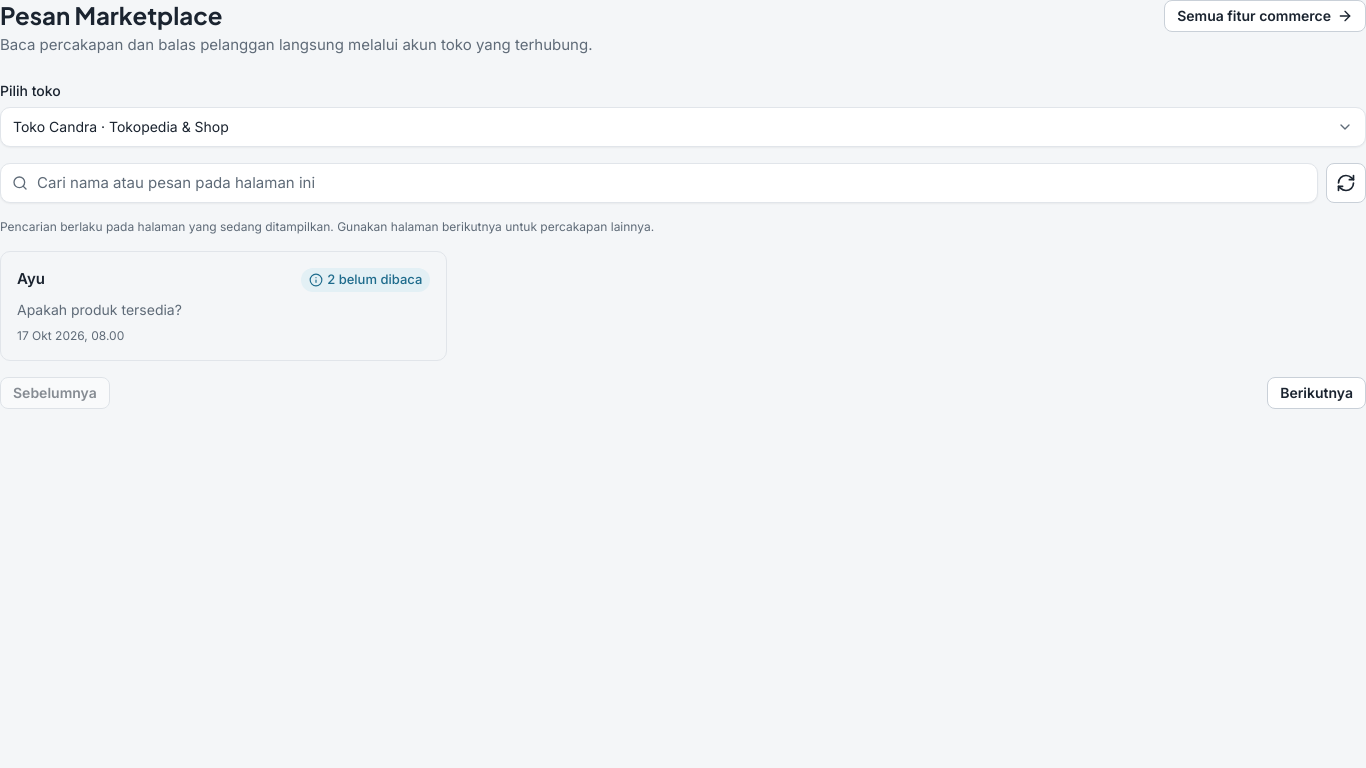
Test: marketplace inbox › searches the loaded page, pages using opaque cursors, and never marks messages read implicitly
expect the button with aria-label "Buka percakapan Ayu" is shown: met, box [0,250,447,360]
Type "tidak-ada" into the search field at x=659, y=182, box [0,162,1318,202]
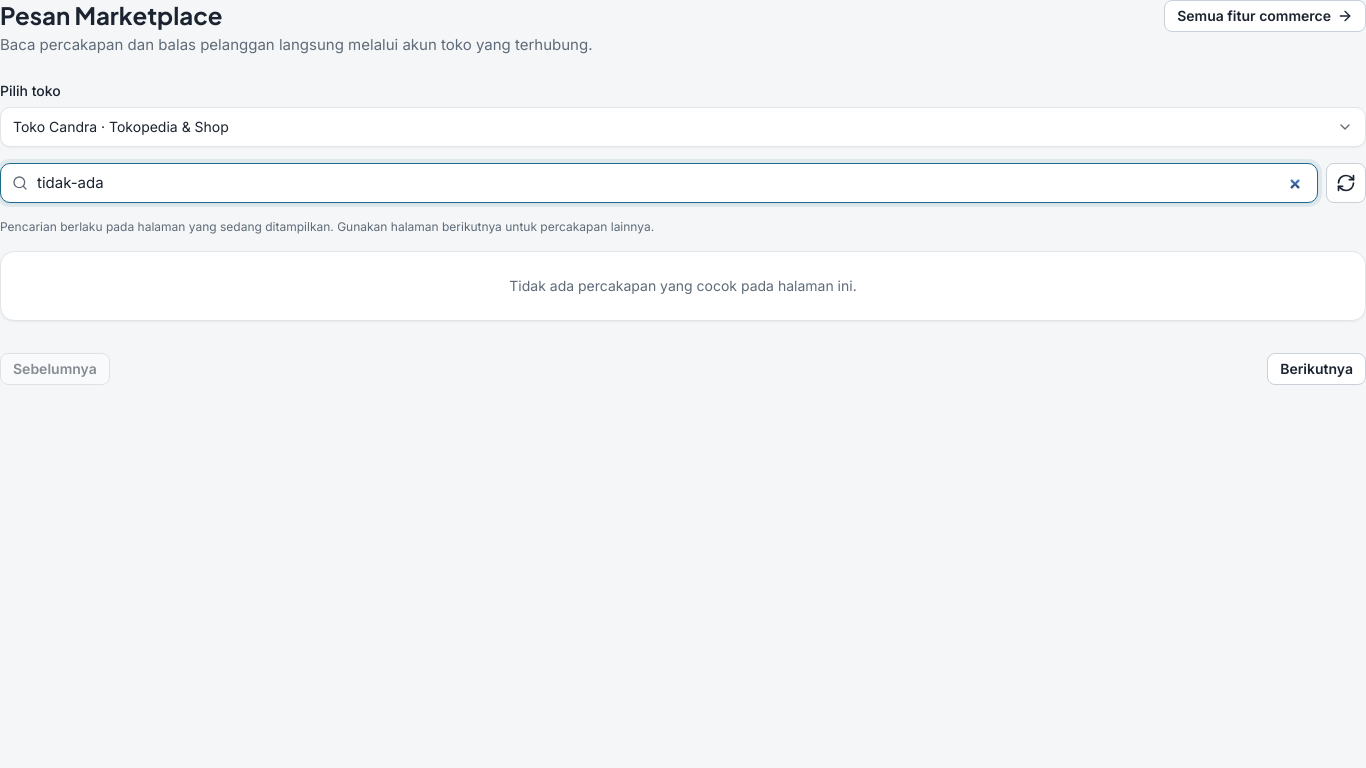
expect the text "Tidak ada percakapan yang cocok pada halaman ini." is shown: met, box [0,250,1365,320]
Clear the search field at x=659, y=182, box [0,162,1318,202]
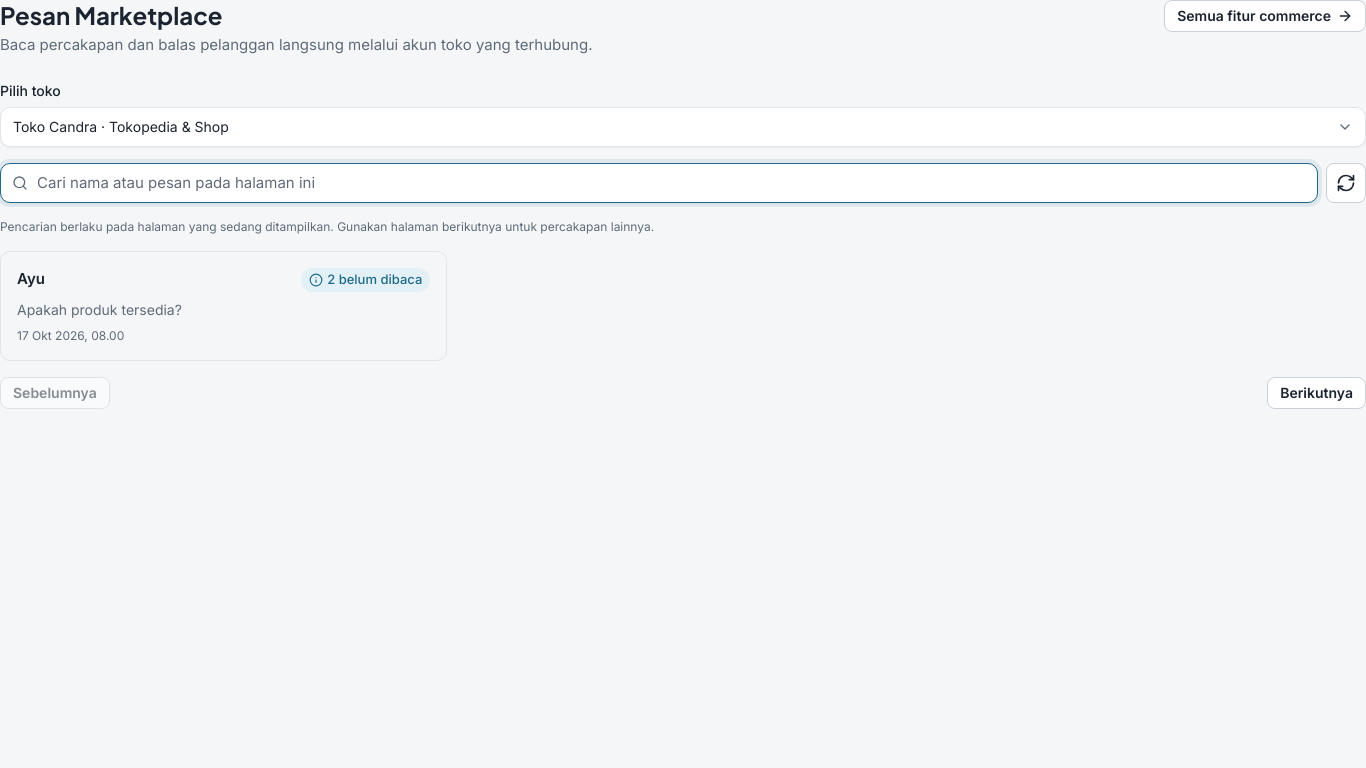
Click the button "Berikutnya" at x=1317, y=392, box [1267,376,1365,408]
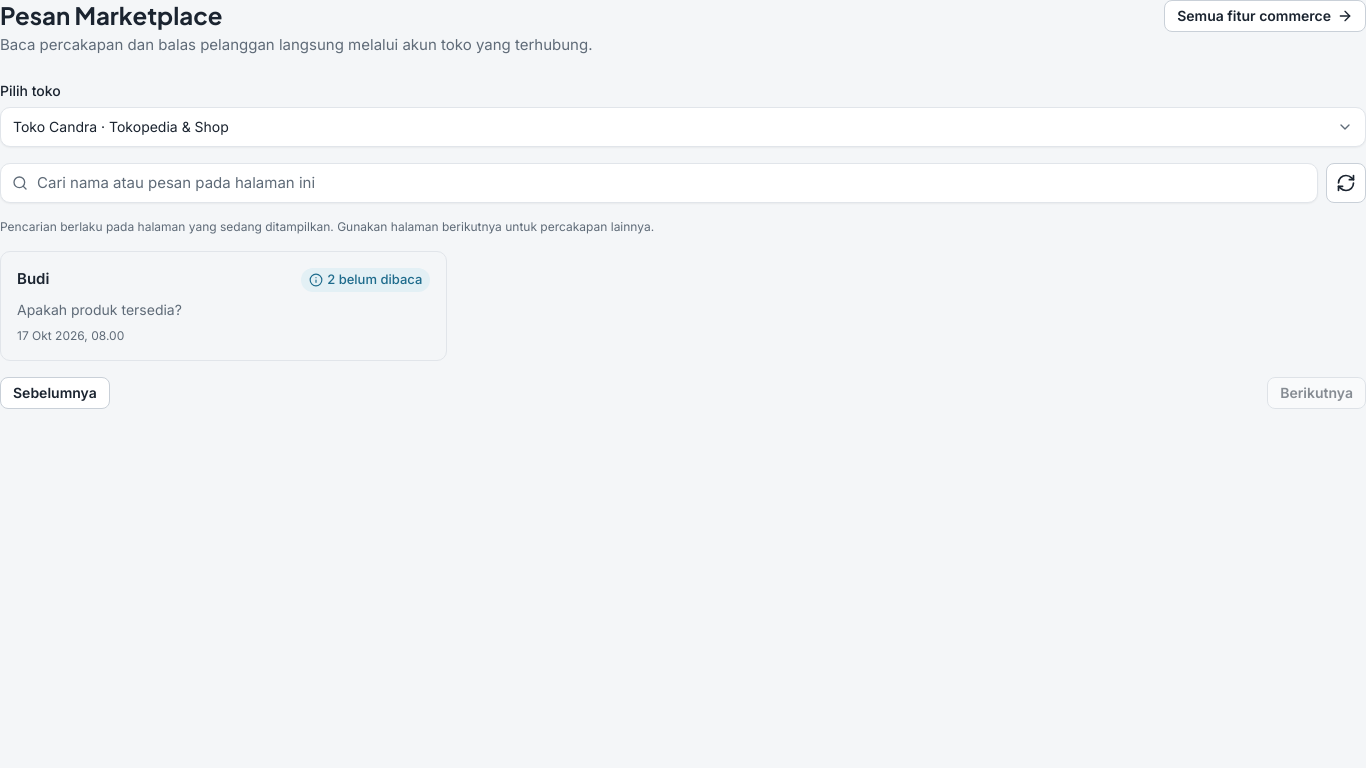
expect the button with aria-label "Buka percakapan Budi" is shown: met, box [0,250,447,360]
Click the button "Sebelumnya" at x=55, y=392, box [0,376,110,408]
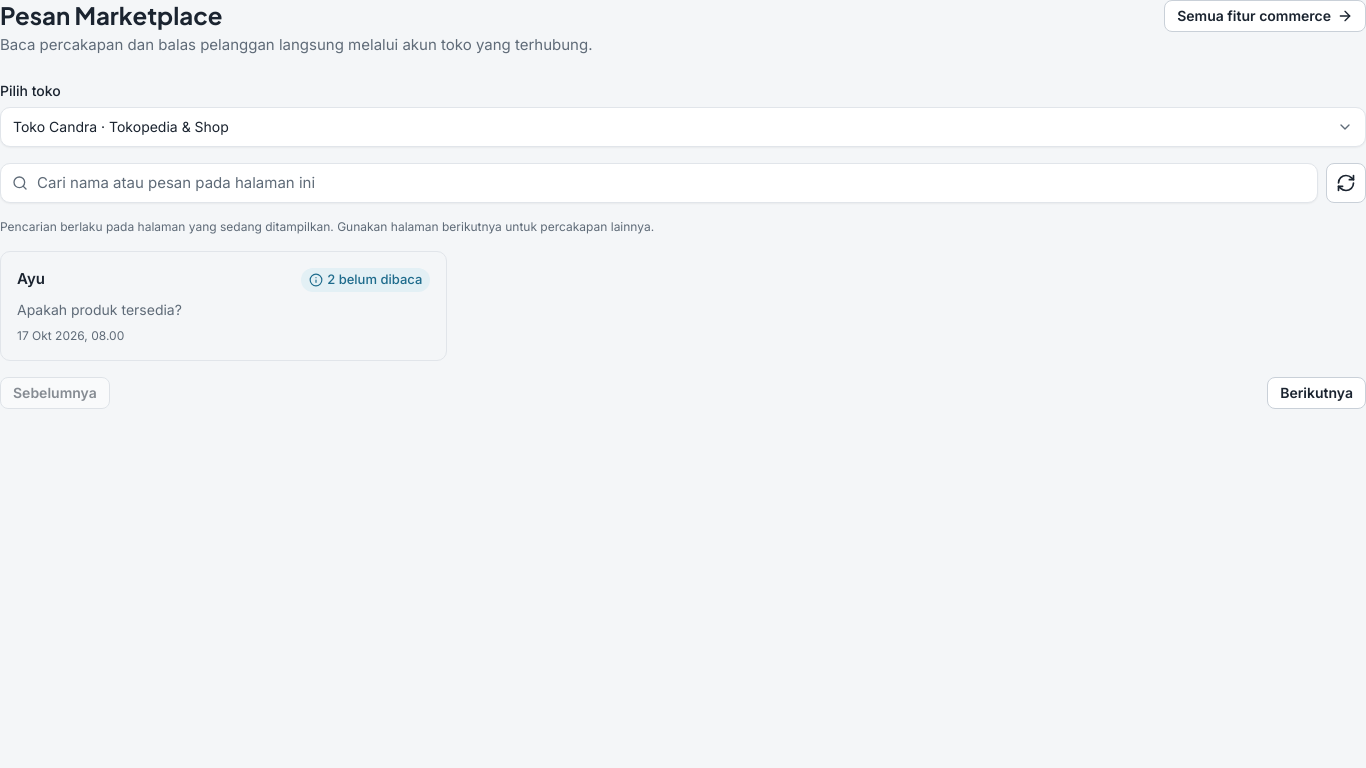
Click the button with aria-label "Buka percakapan Ayu" at x=366, y=280, box [0,250,447,360]
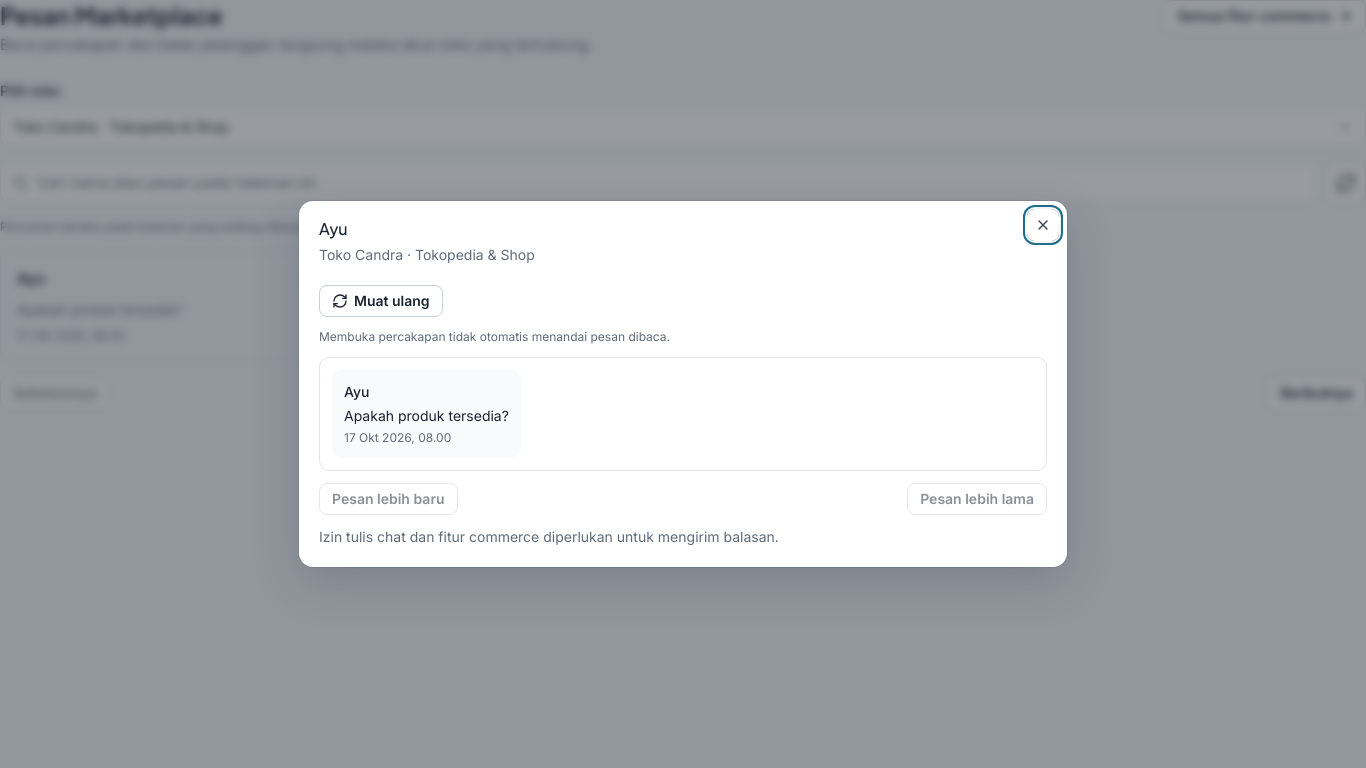
expect the text "Apakah produk tersedia?" is shown: met, box [344,406,509,426]
